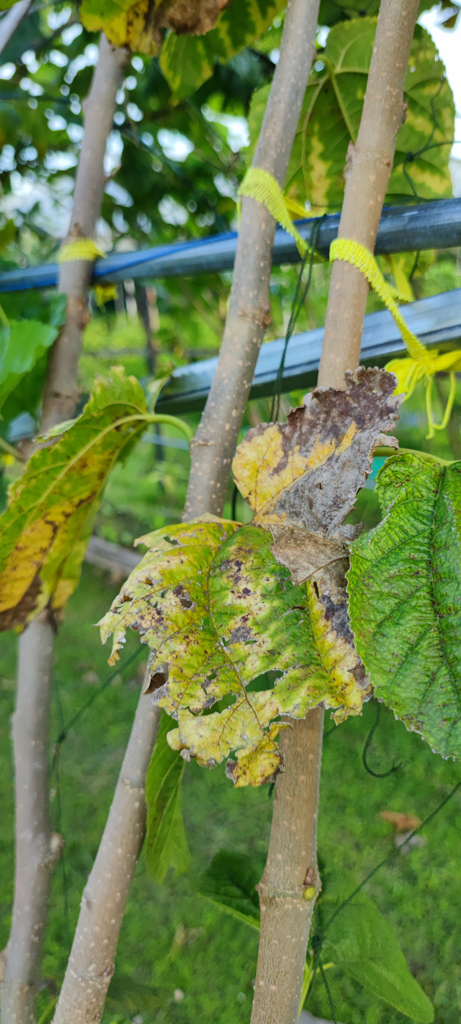Pepper yellow leaf: (109, 363, 400, 787), (3, 396, 139, 643)
